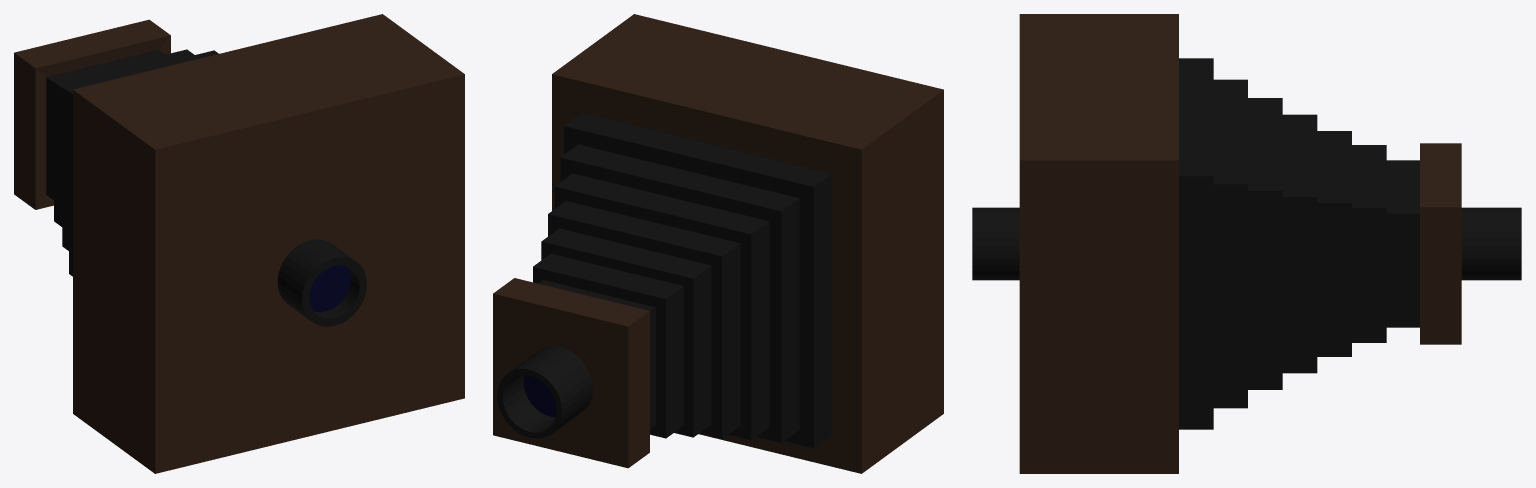
Rendered from appareil.fbx.
3 renders of one model, left to right at view 1: azimuth 30°, elevation 25°; view 2: azimuth 150°, elevation 25°; view 3: azimuth 270°, elevation 25°, orthographic. The views are drawn at different scales.
Visible parts, largest first — view 1: Cube; view 2: Cube; view 3: Cube.
Part boxes in pixels (x1=…): Cube: x1=14, y1=14, x2=464, y2=473; Cube: x1=493, y1=14, x2=943, y2=473; Cube: x1=972, y1=14, x2=1521, y2=473.
Size of the model in its own units: 200 by 200 by 317.
